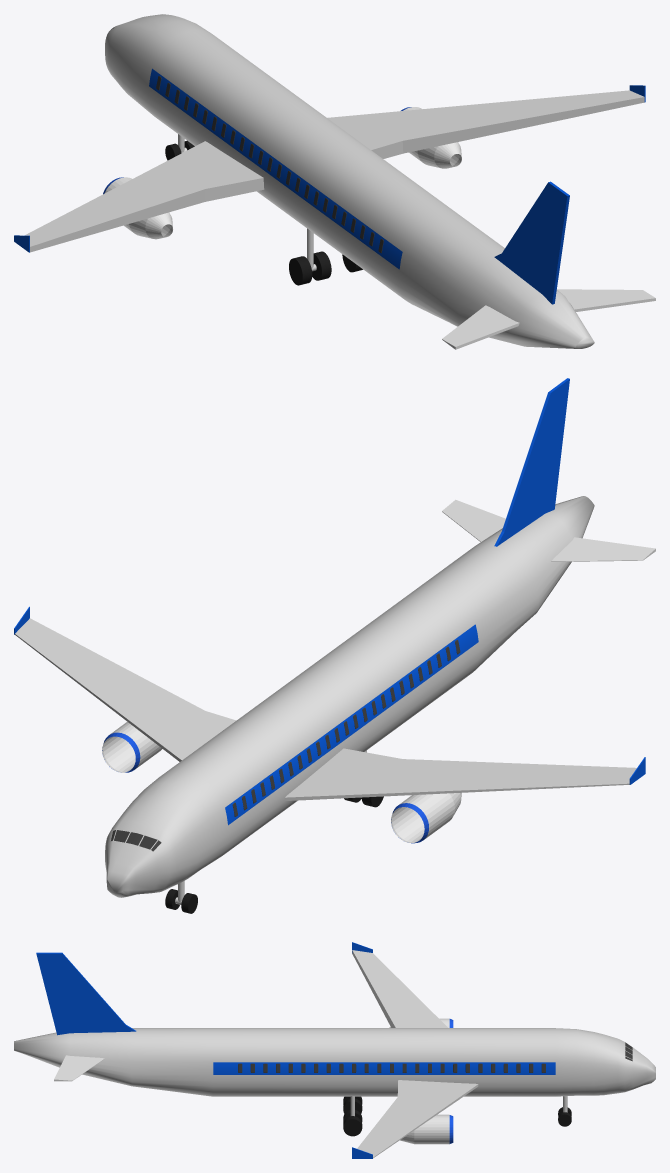
File: Airliner.fbx
3 renders of one model, top to bottom at view 1: azimuth 30°, elevation 25°; view 2: azimuth 150°, elevation 25°; view 3: azimuth 270°, elevation 25°, orthographic. The views are drawn at different scales.
Visible parts, largest first — view 1: Body, LeftBackWheel2; view 2: Body; view 3: Body, RightBackWheel1.
Boxes of the visible parts, x1,y1,x2,y2 form: Body: (14,14,655,349); LeftBackWheel2: (289,256,312,285); Body: (14,378,655,904); Body: (14,942,655,1158); RightBackWheel1: (343,1116,362,1136).
Size of the model in its own units: 11526 by 15224 by 4442.
